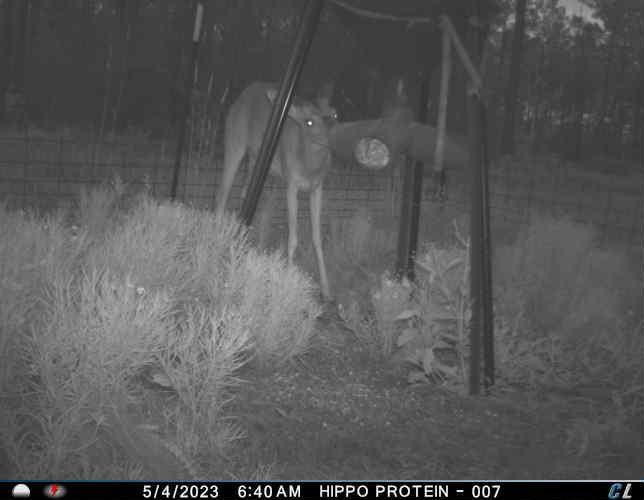Deer: (216, 71, 346, 311)
